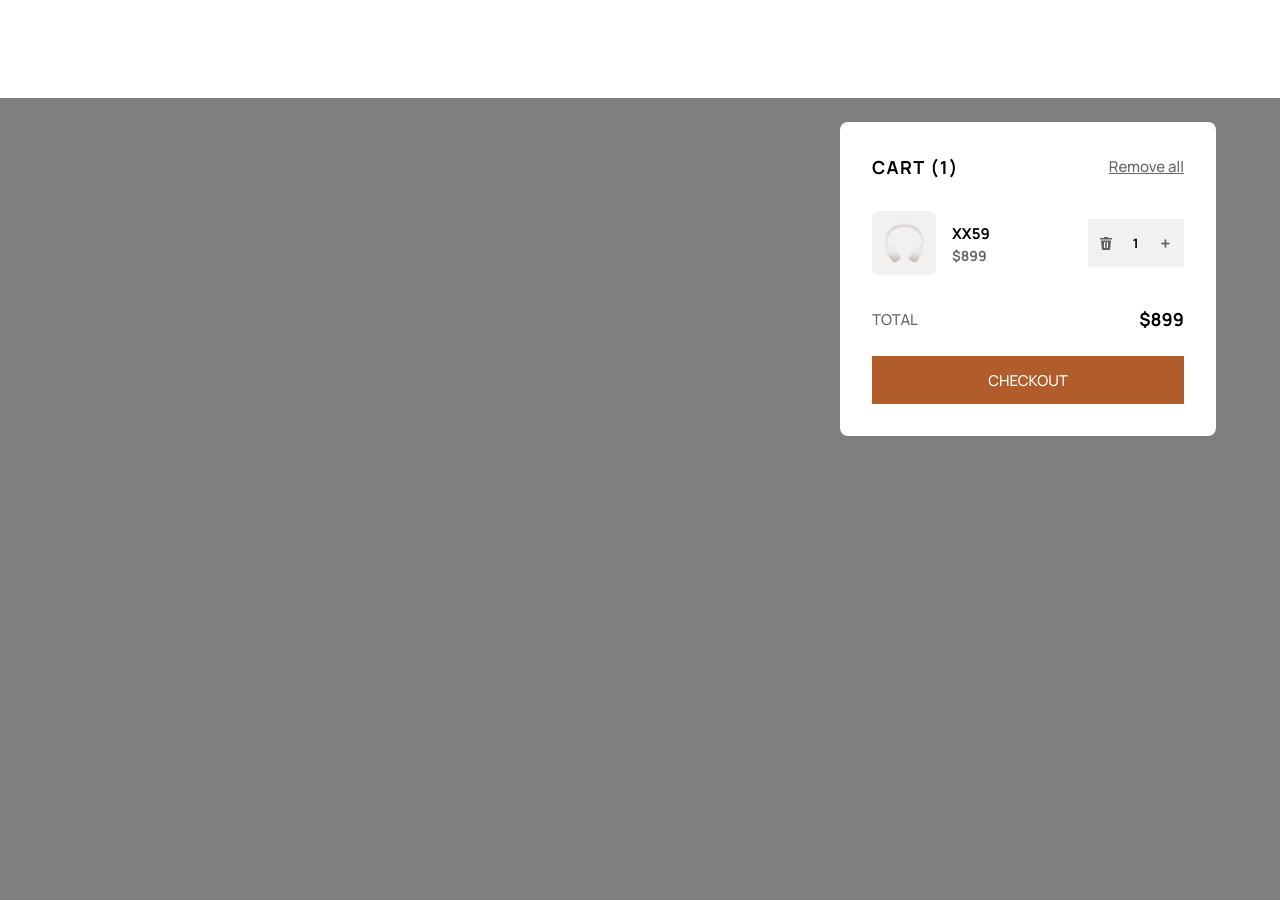
Test: Cart › updates the cart and total when a quantity changes
Click the button named "Increase quantity" at [1166, 243], box [1150,221,1182,265]
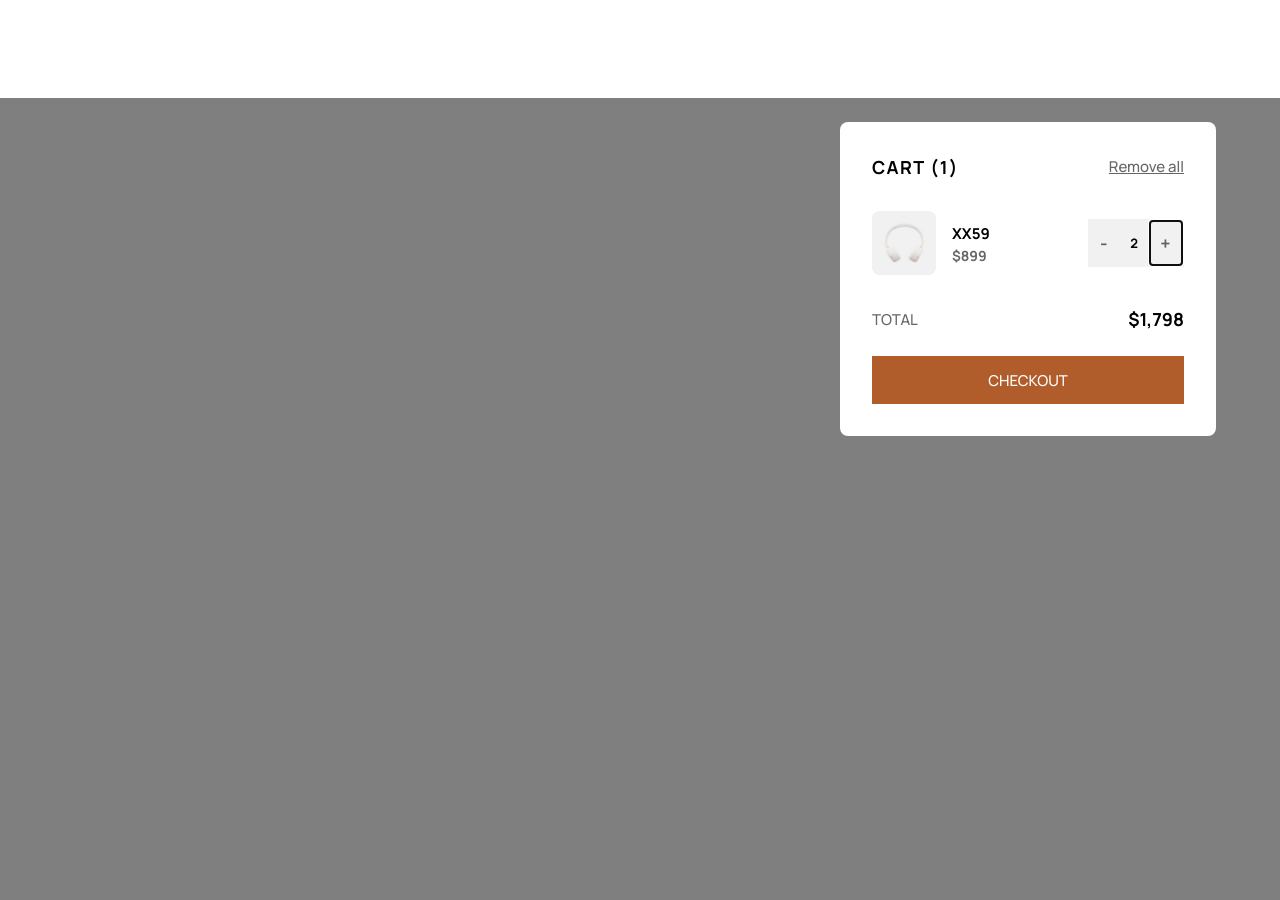
Now the text "$1,798" is shown, box [1128,307,1184,332]
